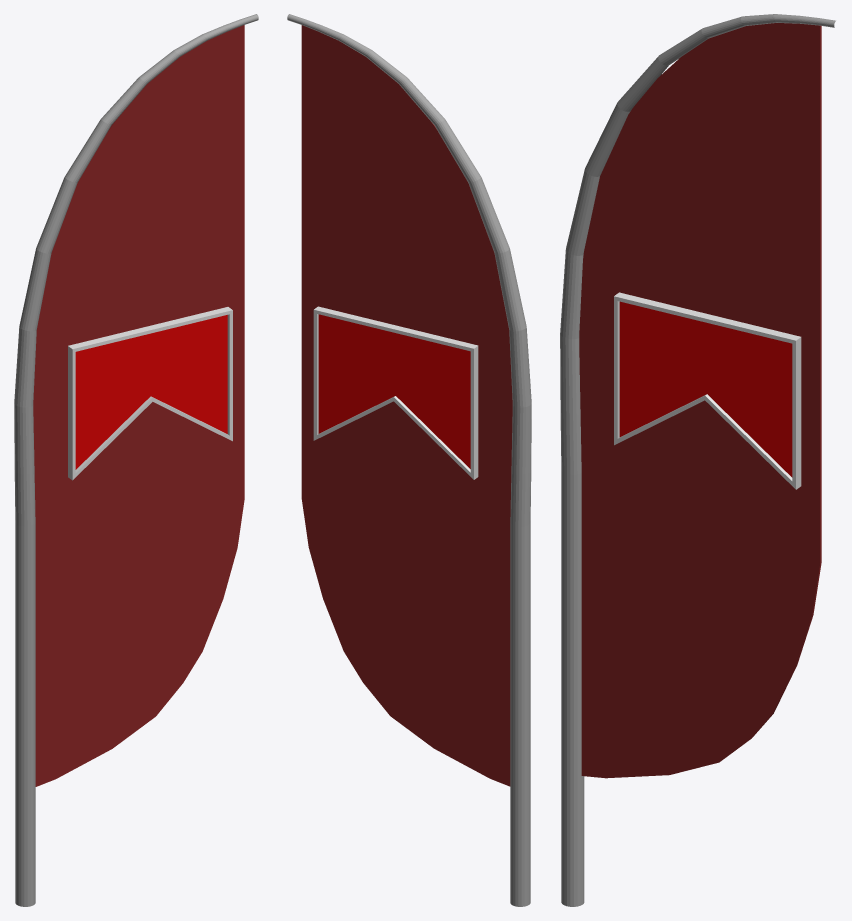
3 renders of one model, left to right at view 1: azimuth 30°, elevation 25°; view 2: azimuth 150°, elevation 25°; view 3: azimuth 330°, elevation 25°, orthographic. The views are drawn at different scales.
Visible parts, largest first — view 1: pPlane1, pCube3, pCylinder1; view 2: pPlane1, pCube3, pCylinder1; view 3: pPlane1, pCube3, pCylinder1.
Boxes of the visible parts, left/top/right/bottom form: pPlane1: left=33, top=25, right=244, bottom=786; pCube3: left=68, top=307, right=232, bottom=480; pCylinder1: left=14, top=14, right=258, bottom=906; pPlane1: left=301, top=25, right=512, bottom=786; pCube3: left=313, top=306, right=478, bottom=479; pCylinder1: left=287, top=14, right=531, bottom=906; pPlane1: left=579, top=23, right=821, bottom=778; pCube3: left=614, top=292, right=801, bottom=489; pCylinder1: left=560, top=14, right=835, bottom=906.
Size of the model in its own units: 74.71 by 246 by 5.65.
